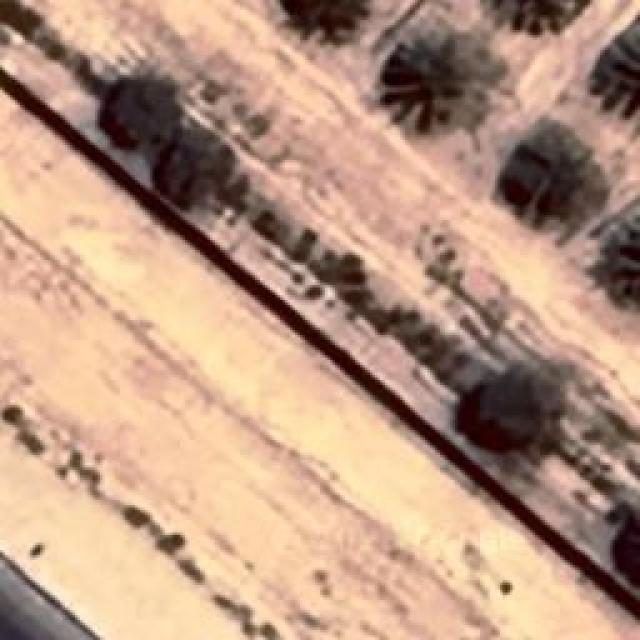PalmTree: (372, 30, 498, 145), (488, 122, 614, 237), (593, 203, 640, 318), (590, 22, 638, 120), (480, 0, 593, 40), (276, 0, 376, 43)
